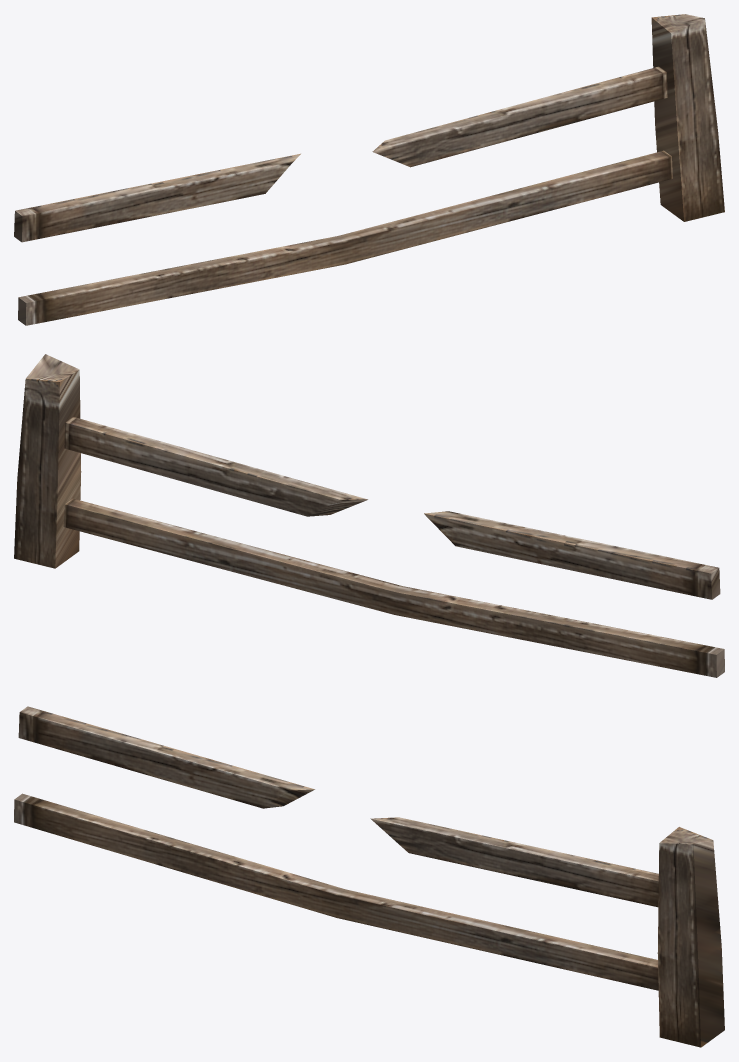
Rendered from start_fence_06.glb.
3 renders of one model, top to bottom at view 1: azimuth 30°, elevation 25°; view 2: azimuth 150°, elevation 25°; view 3: azimuth 330°, elevation 25°, orthographic.
Parts seen in each view (by area): view 1: start_fence_06_game; view 2: start_fence_06_game; view 3: start_fence_06_game.
Part boxes in pixels (x1,y1,x2,y2): start_fence_06_game: (14,14,724,325); start_fence_06_game: (14,354,724,677); start_fence_06_game: (14,706,724,1047).
Size of the model in its own units: 4.76 by 1.27 by 0.3095.
Materials: 1 (1 with a texture image).
